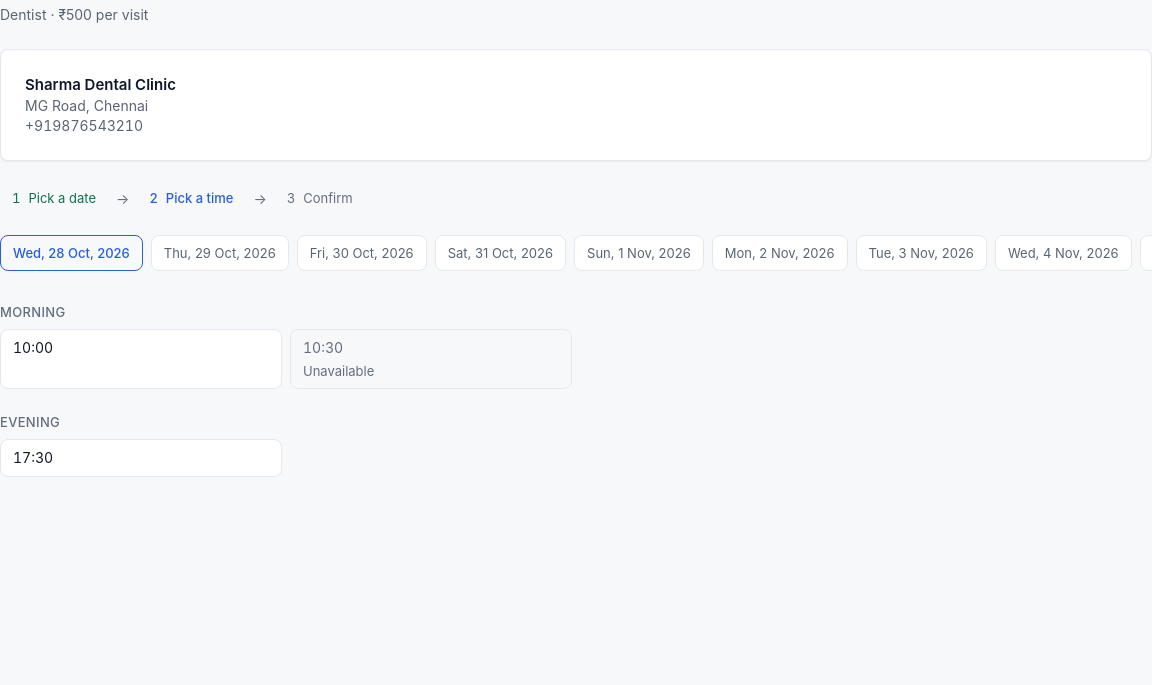
Test: DoctorDetailPage › shows a review step before booking, because booking creates an obligation
This screenshot has width=1152, height=685.
Click the button "10:00" at (33, 348), box [0,329,282,389]
(page scrolled)
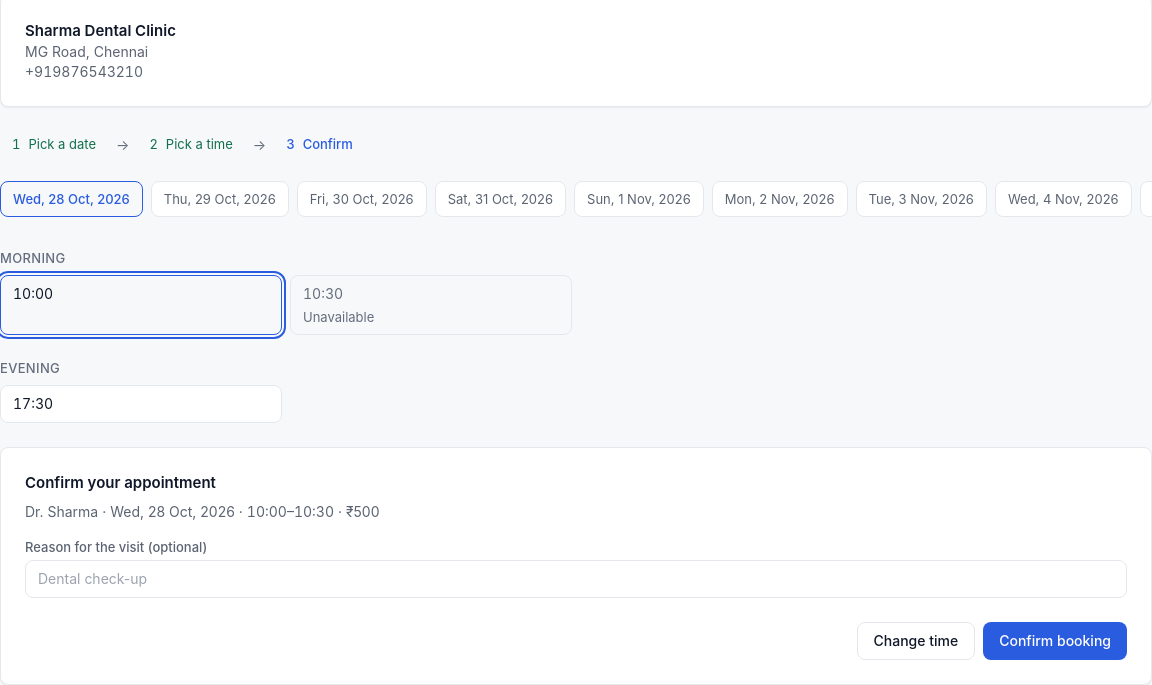
Expected: the text "Confirm your appointment" is shown, [25,473,216,492]
Expected: the text "Confirm your appointment" shows "Dr. Sharma", [25,503,98,520]
Expected: the text "Confirm your appointment" shows "10:00–10:30", [0,447,1151,684]
